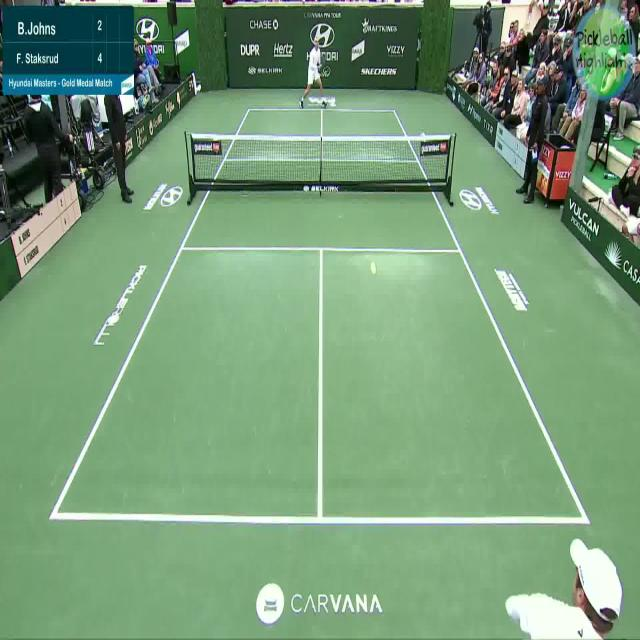ball: (368, 256, 379, 279)
